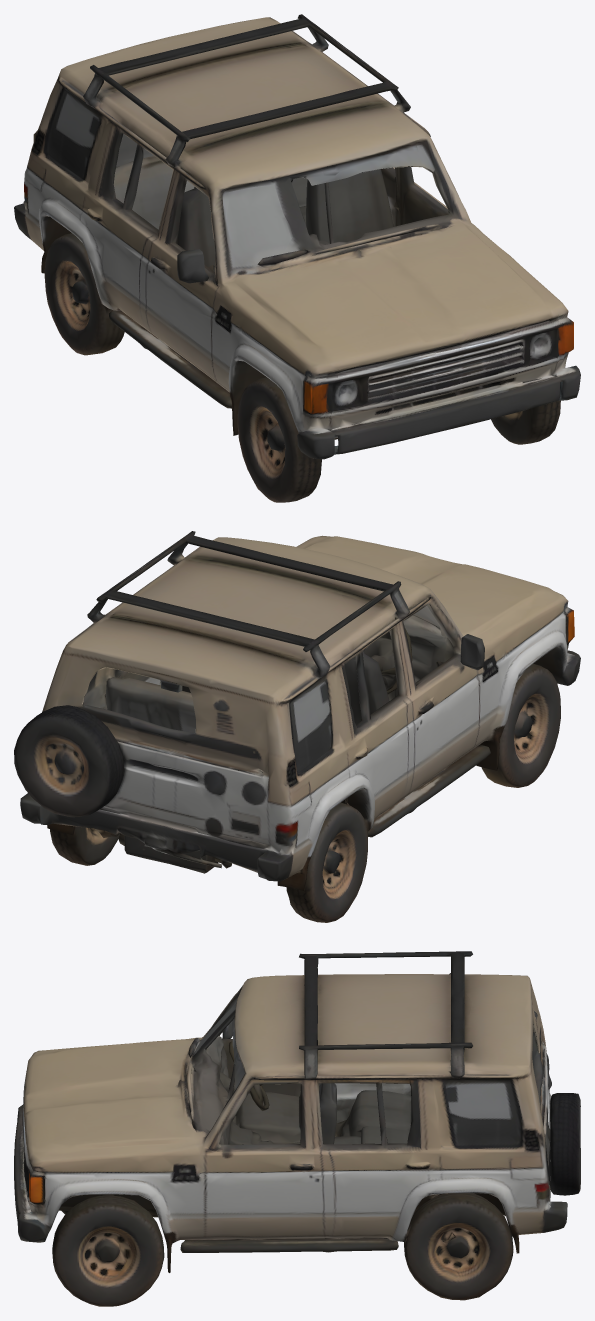
The model's file is model_pbr.glb.
The picture shows the model from 3 angles, top to bottom: view 1: azimuth 30°, elevation 25°; view 2: azimuth 150°, elevation 25°; view 3: azimuth 270°, elevation 25°; orthographic projection. The views are drawn at different scales.
Parts seen in each view (by area): view 1: tripo_node_f1867860-a998-4d49-bcaf-81aab70165e7; view 2: tripo_node_f1867860-a998-4d49-bcaf-81aab70165e7; view 3: tripo_node_f1867860-a998-4d49-bcaf-81aab70165e7.
Part boxes in pixels (<box>): tripo_node_f1867860-a998-4d49-bcaf-81aab70165e7: <box>14,14,580,502</box>; tripo_node_f1867860-a998-4d49-bcaf-81aab70165e7: <box>14,531,580,922</box>; tripo_node_f1867860-a998-4d49-bcaf-81aab70165e7: <box>14,951,580,1306</box>.
Size of the model in its own units: 0.5396 by 0.4888 by 1.
Materials: 1 (1 with a texture image).
